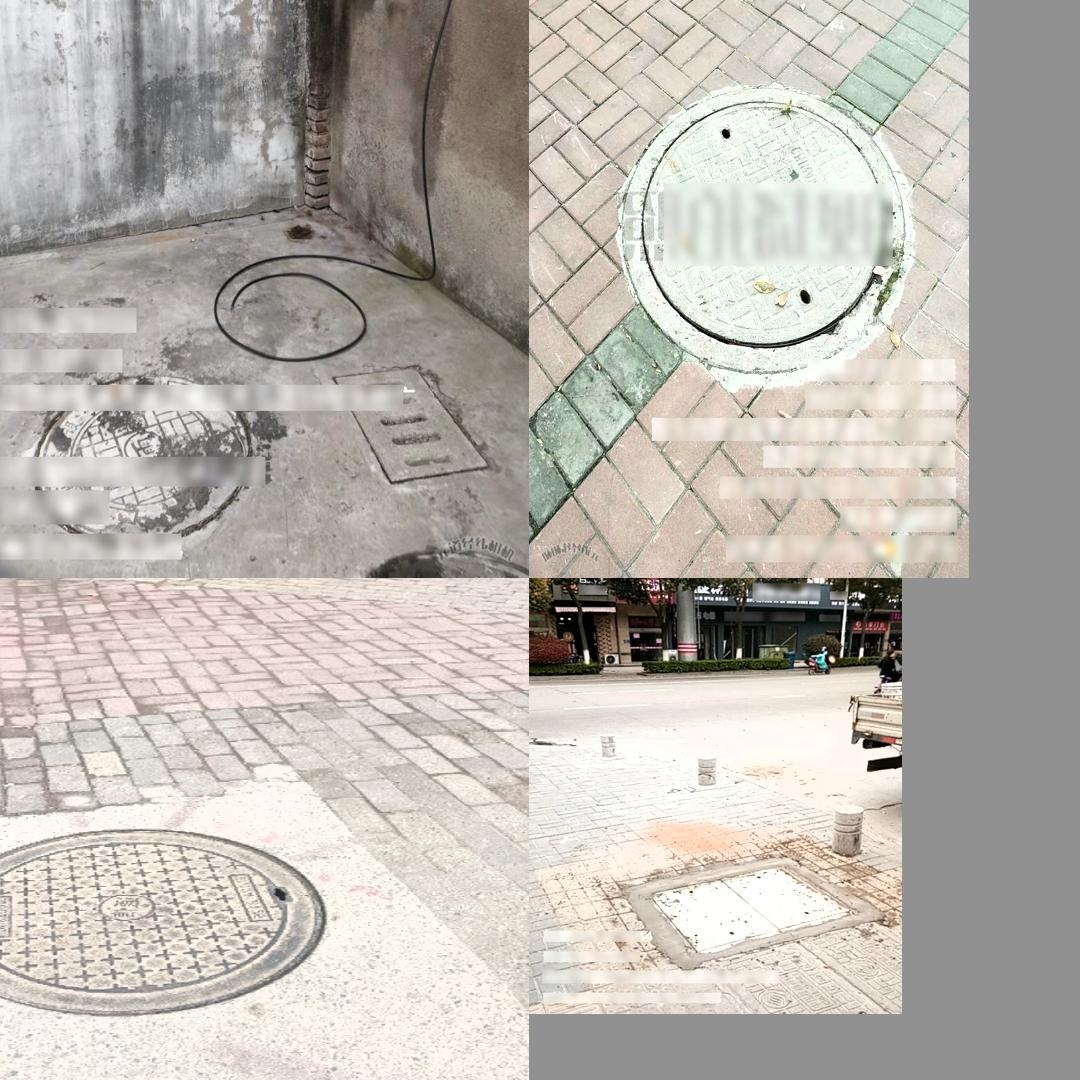good: (613, 93, 907, 378), (0, 825, 316, 1019), (20, 374, 259, 551), (632, 863, 859, 952)
